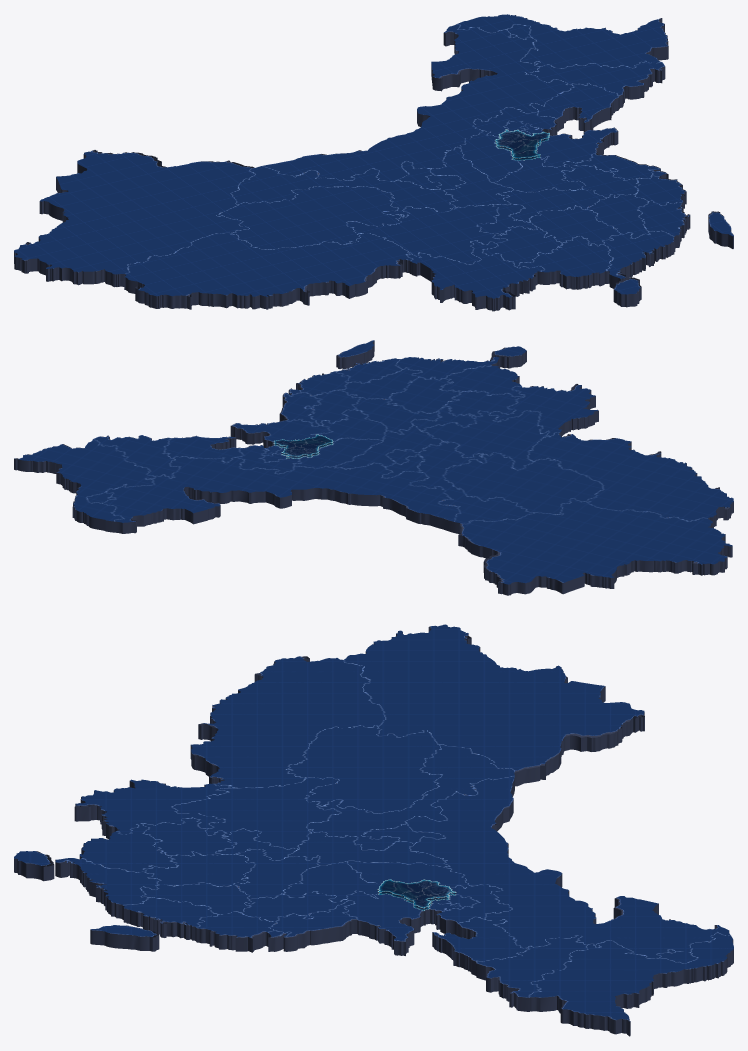
3 renders of one model, top to bottom at view 1: azimuth 30°, elevation 25°; view 2: azimuth 150°, elevation 25°; view 3: azimuth 270°, elevation 25°, orthographic. The views are drawn at different scales.
Visible parts, largest first — view 1: 中国地图, 立方体; view 2: 中国地图, 立方体; view 3: 中国地图, 立方体.
Part boxes in pixels (<box>): 中国地图: <box>14,14,733,311</box>; 立方体: <box>495,129,549,158</box>; 中国地图: <box>14,340,733,595</box>; 立方体: <box>274,434,332,456</box>; 中国地图: <box>14,624,733,1036</box>; 立方体: <box>378,879,455,907</box>.
Bounding box in the file's own units: 6004 × 119 × 4591.
6 materials, 2 textured.
